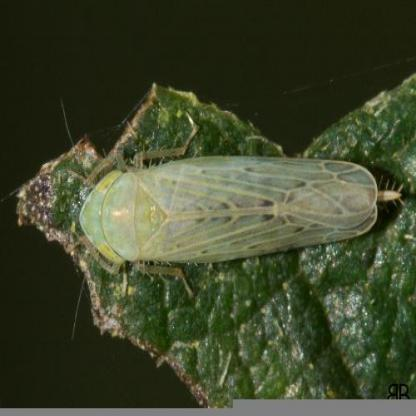green-leafhopper: (78, 154, 402, 294)
